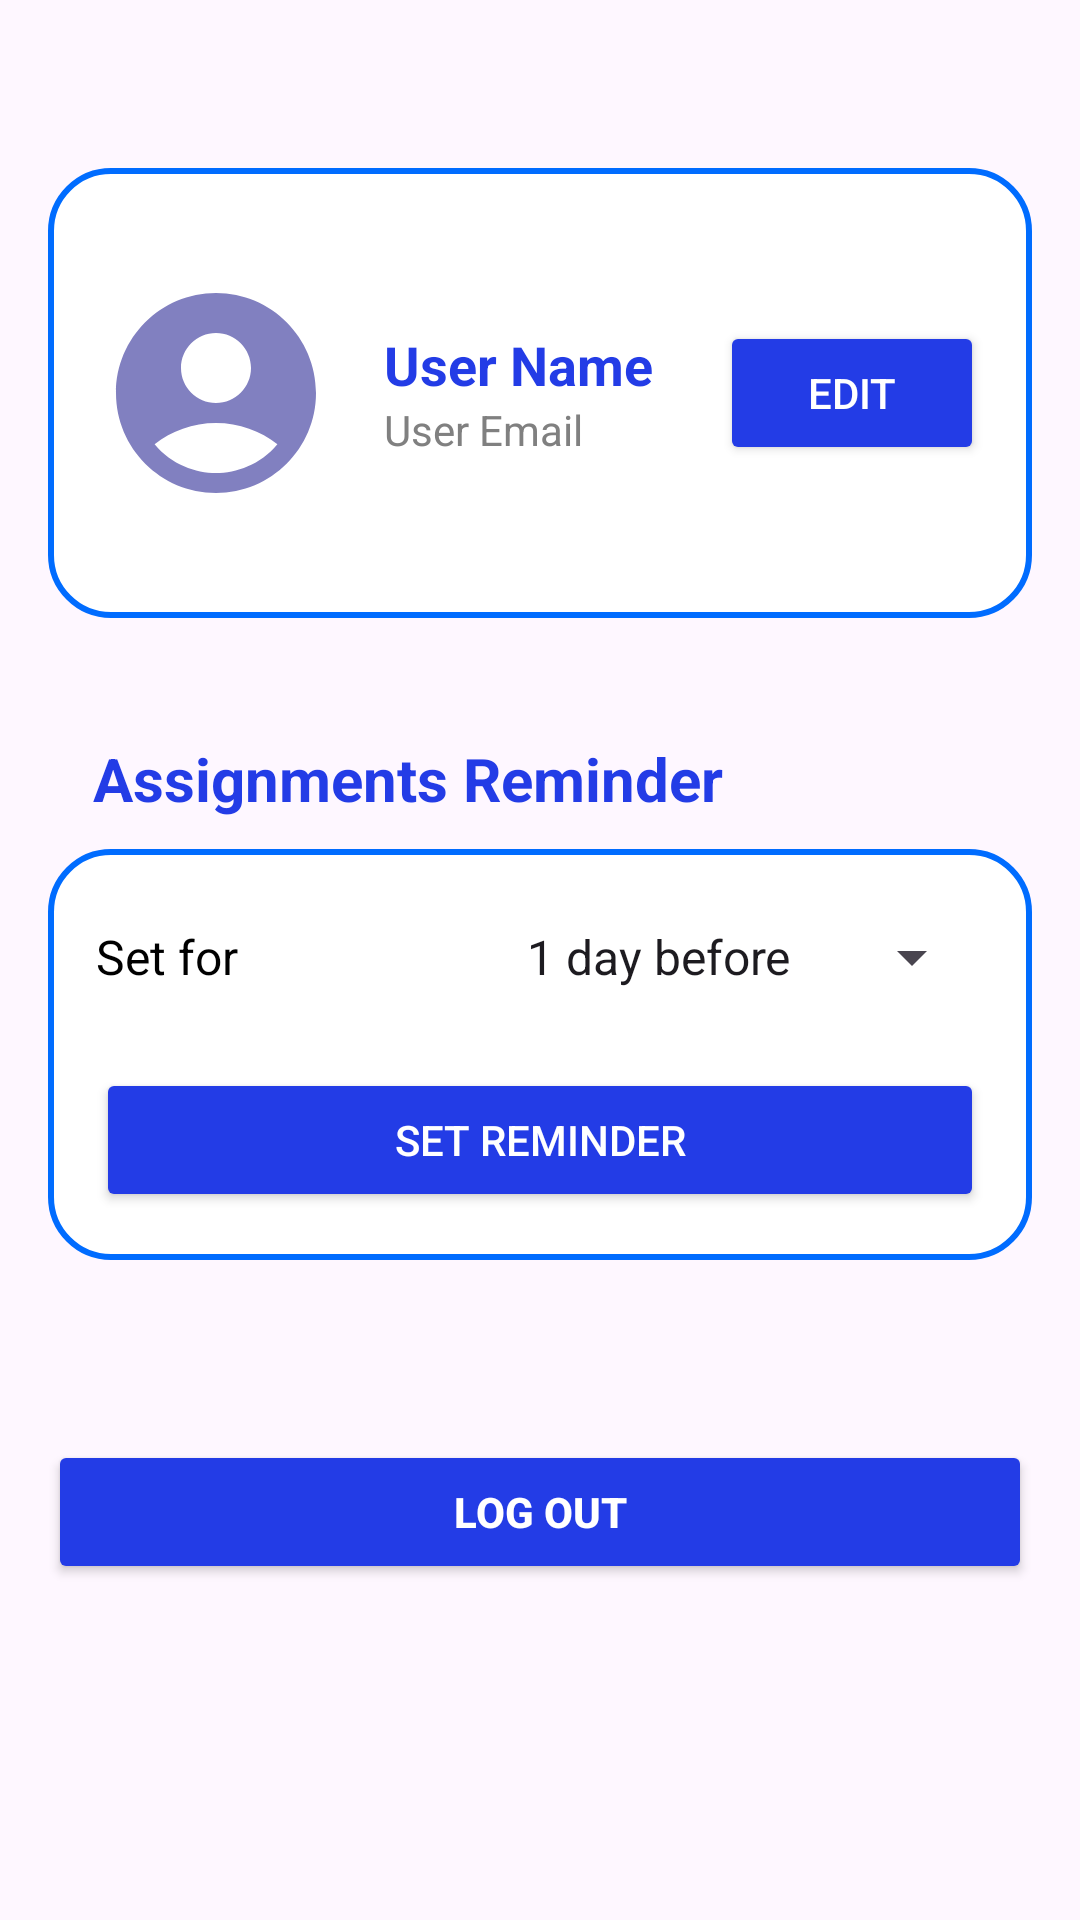

Locate icon controls on the screen. Image size 1080x1920, boxes as (x1, y1, x2, y2).
account circle: (116, 293, 316, 493)
